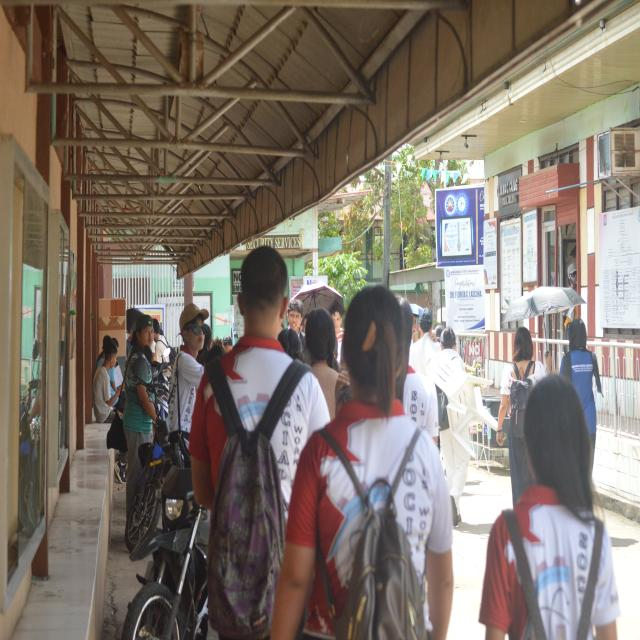person: (514, 376, 595, 639), (271, 434, 366, 639), (221, 247, 292, 431), (497, 328, 546, 504), (123, 315, 159, 515), (560, 318, 599, 466), (168, 304, 208, 432), (306, 308, 338, 419), (398, 365, 438, 442), (440, 423, 470, 525), (93, 341, 119, 422), (409, 308, 440, 375)
